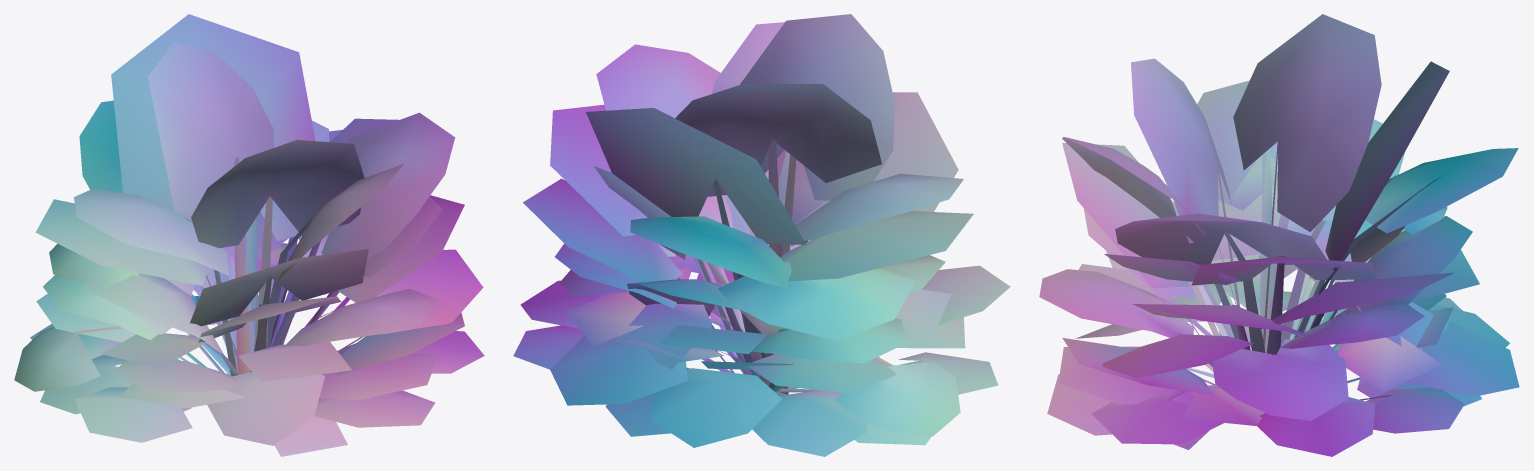
3 renders of one model, left to right at view 1: azimuth 30°, elevation 25°; view 2: azimuth 150°, elevation 25°; view 3: azimuth 270°, elevation 25°, orthographic. The views are drawn at different scales.
Visible parts, largest first — view 1: SM_BS_NeedlePalm_350cm; view 2: SM_BS_NeedlePalm_350cm; view 3: SM_BS_NeedlePalm_350cm.
Boxes of the visible parts, x1,y1,x2,y2 form: SM_BS_NeedlePalm_350cm: (14,14,484,456); SM_BS_NeedlePalm_350cm: (513,14,1010,456); SM_BS_NeedlePalm_350cm: (1039,14,1519,456).
Size of the model in its own units: 164 by 172 by 137.
